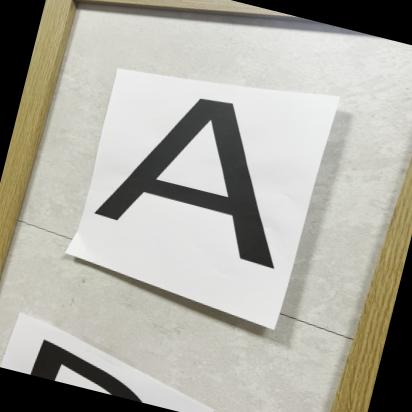seat: (85, 69, 322, 295)
